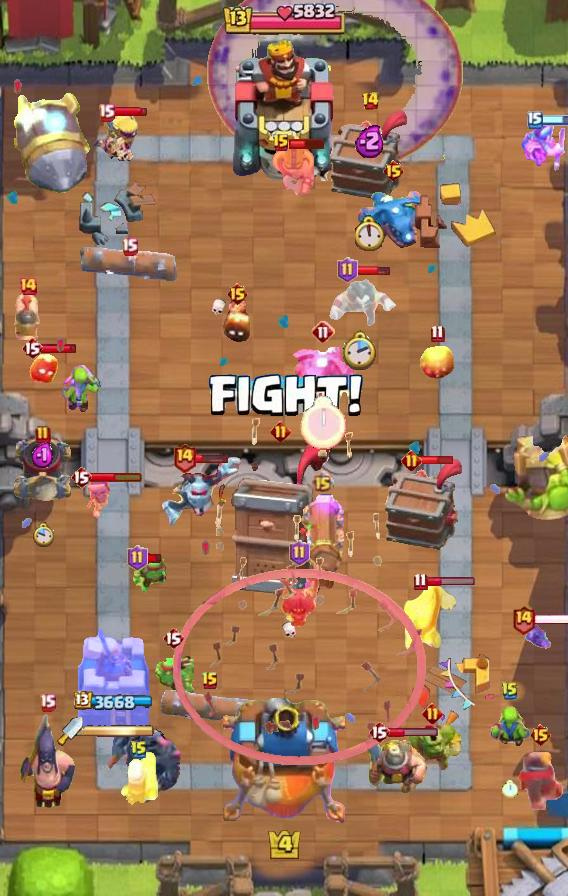bar: (90, 471, 143, 483), (388, 727, 439, 738), (425, 576, 476, 587), (289, 137, 326, 150), (355, 264, 391, 277), (534, 613, 568, 626), (112, 106, 148, 118), (420, 454, 455, 466), (194, 452, 229, 464), (41, 343, 78, 354), (541, 115, 568, 126), (146, 553, 163, 564)
bar-level: (511, 604, 536, 635), (172, 442, 197, 473), (311, 320, 335, 344), (529, 723, 552, 747), (226, 282, 249, 306), (382, 159, 405, 183), (127, 545, 148, 571), (289, 540, 310, 566), (337, 257, 358, 283), (311, 470, 334, 493), (368, 720, 390, 744), (162, 626, 184, 650), (70, 465, 92, 489), (21, 336, 43, 360), (422, 703, 443, 724), (401, 450, 422, 471), (270, 421, 291, 442), (18, 276, 38, 296), (361, 91, 380, 111), (130, 740, 148, 760), (501, 681, 519, 701), (201, 671, 219, 691), (272, 133, 290, 153), (39, 693, 56, 712), (121, 237, 138, 256), (98, 103, 115, 122), (35, 425, 51, 445), (527, 111, 543, 129), (413, 572, 428, 591), (430, 324, 445, 343)
barbarian-evolution: (92, 110, 140, 163)
bat-evolution: (525, 618, 555, 650)
clock: (300, 396, 346, 450), (343, 330, 378, 372), (355, 215, 386, 251), (32, 522, 54, 548), (502, 780, 518, 798)
dagger-duchess-tower: (75, 623, 153, 731)
dagger-duchess-tower-bar: (83, 724, 155, 738)
electro-dragon: (358, 186, 428, 250), (289, 344, 357, 400)
electro-wizard: (323, 273, 397, 331)
elite-barbarian: (272, 140, 316, 198)
elixir: (355, 123, 386, 158), (31, 442, 55, 469)
executioner: (18, 709, 76, 809)
fire-spirit: (221, 297, 253, 345), (28, 352, 60, 386)
firecracker: (118, 749, 160, 807)
goblin: (488, 700, 532, 755), (59, 362, 101, 414)
goblin-brawler: (402, 722, 462, 776)
king-tower: (228, 35, 340, 181), (223, 698, 345, 826)
king-tower-bar: (221, 0, 347, 40)
knight: (404, 578, 456, 654), (517, 752, 564, 810)
mega-minion: (159, 454, 245, 532)
miner: (365, 734, 427, 798)
mortar: (11, 436, 75, 502)
phoenix-egg: (420, 342, 454, 380)
royal-hog: (12, 291, 44, 345)
skeleton-evolution: (83, 476, 113, 518)
spear-goblin: (520, 122, 568, 174), (152, 653, 194, 699), (131, 554, 173, 600)
the-log: (78, 245, 180, 281), (161, 690, 259, 726)
tower-bar: (74, 691, 155, 712)
